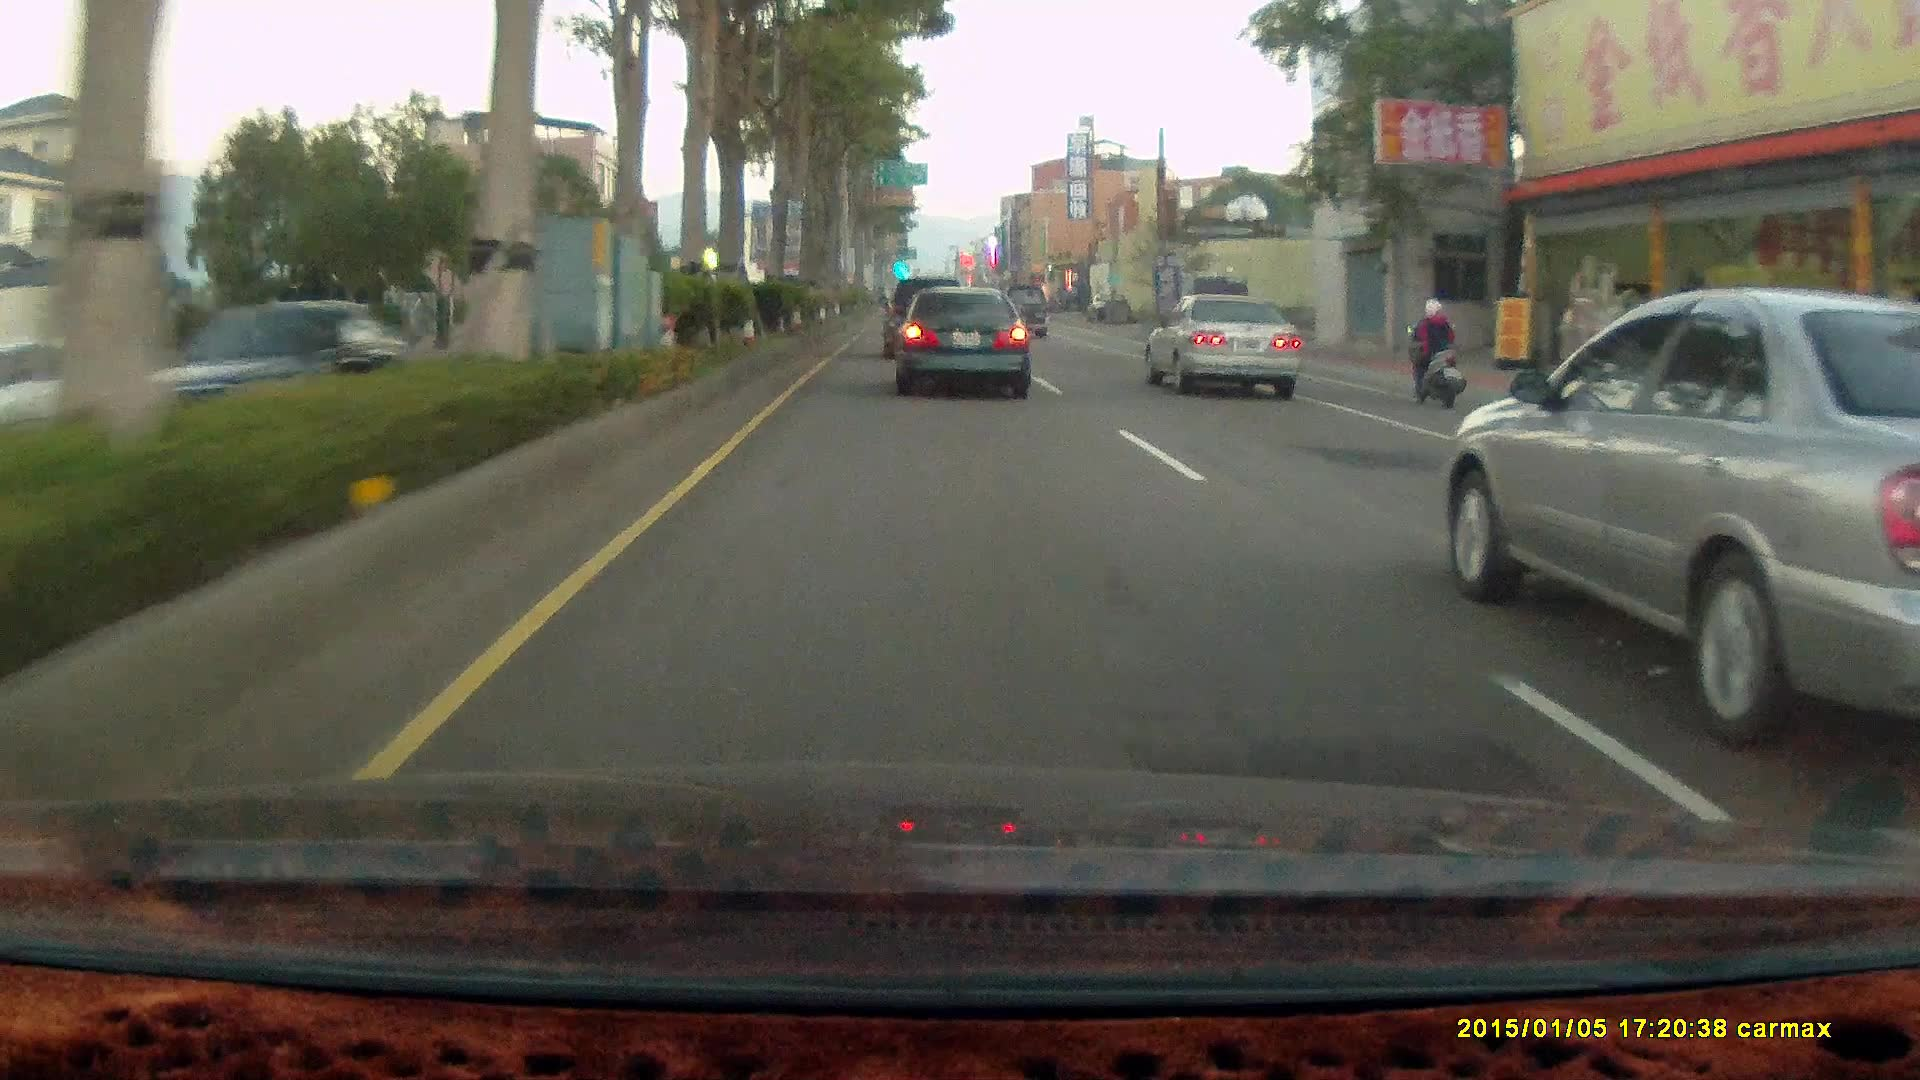rider: (1397, 290, 1475, 417), (1402, 293, 1467, 408)
vehicle: (1437, 288, 1920, 752), (134, 300, 405, 430), (1143, 292, 1303, 405), (0, 333, 139, 461), (1143, 290, 1300, 399), (892, 287, 1034, 405), (892, 287, 1032, 399), (884, 275, 973, 359), (881, 277, 963, 355), (1174, 277, 1249, 347), (999, 283, 1046, 340)
